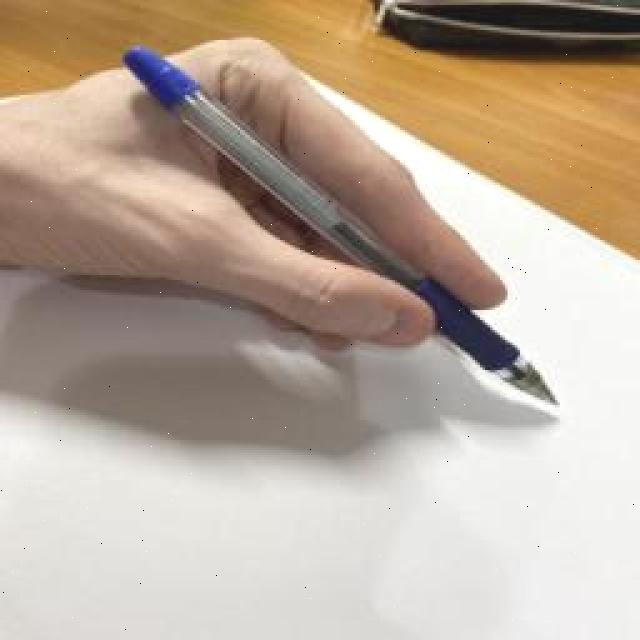pen: (120, 45, 565, 410)
